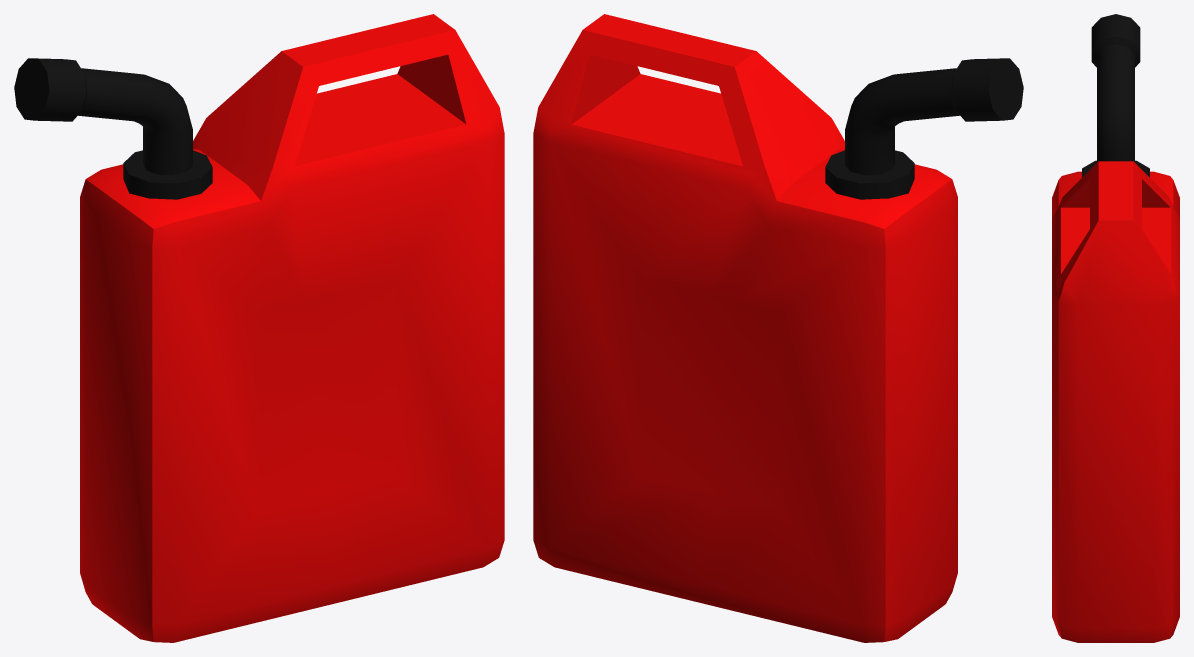
The model's file is Gas_Can_01.fbx.
3 renders of one model, left to right at view 1: azimuth 30°, elevation 25°; view 2: azimuth 150°, elevation 25°; view 3: azimuth 270°, elevation 25°, orthographic. The views are drawn at different scales.
Visible parts, largest first — view 1: Box004; view 2: Box004; view 3: Box004.
Boxes of the visible parts, left/top/right/bottom form: Box004: left=14, top=14, right=504, bottom=642; Box004: left=533, top=14, right=1023, bottom=642; Box004: left=1052, top=14, right=1179, bottom=642.
Bounding box in the file's own units: 65.47 × 81.61 × 20.2.
